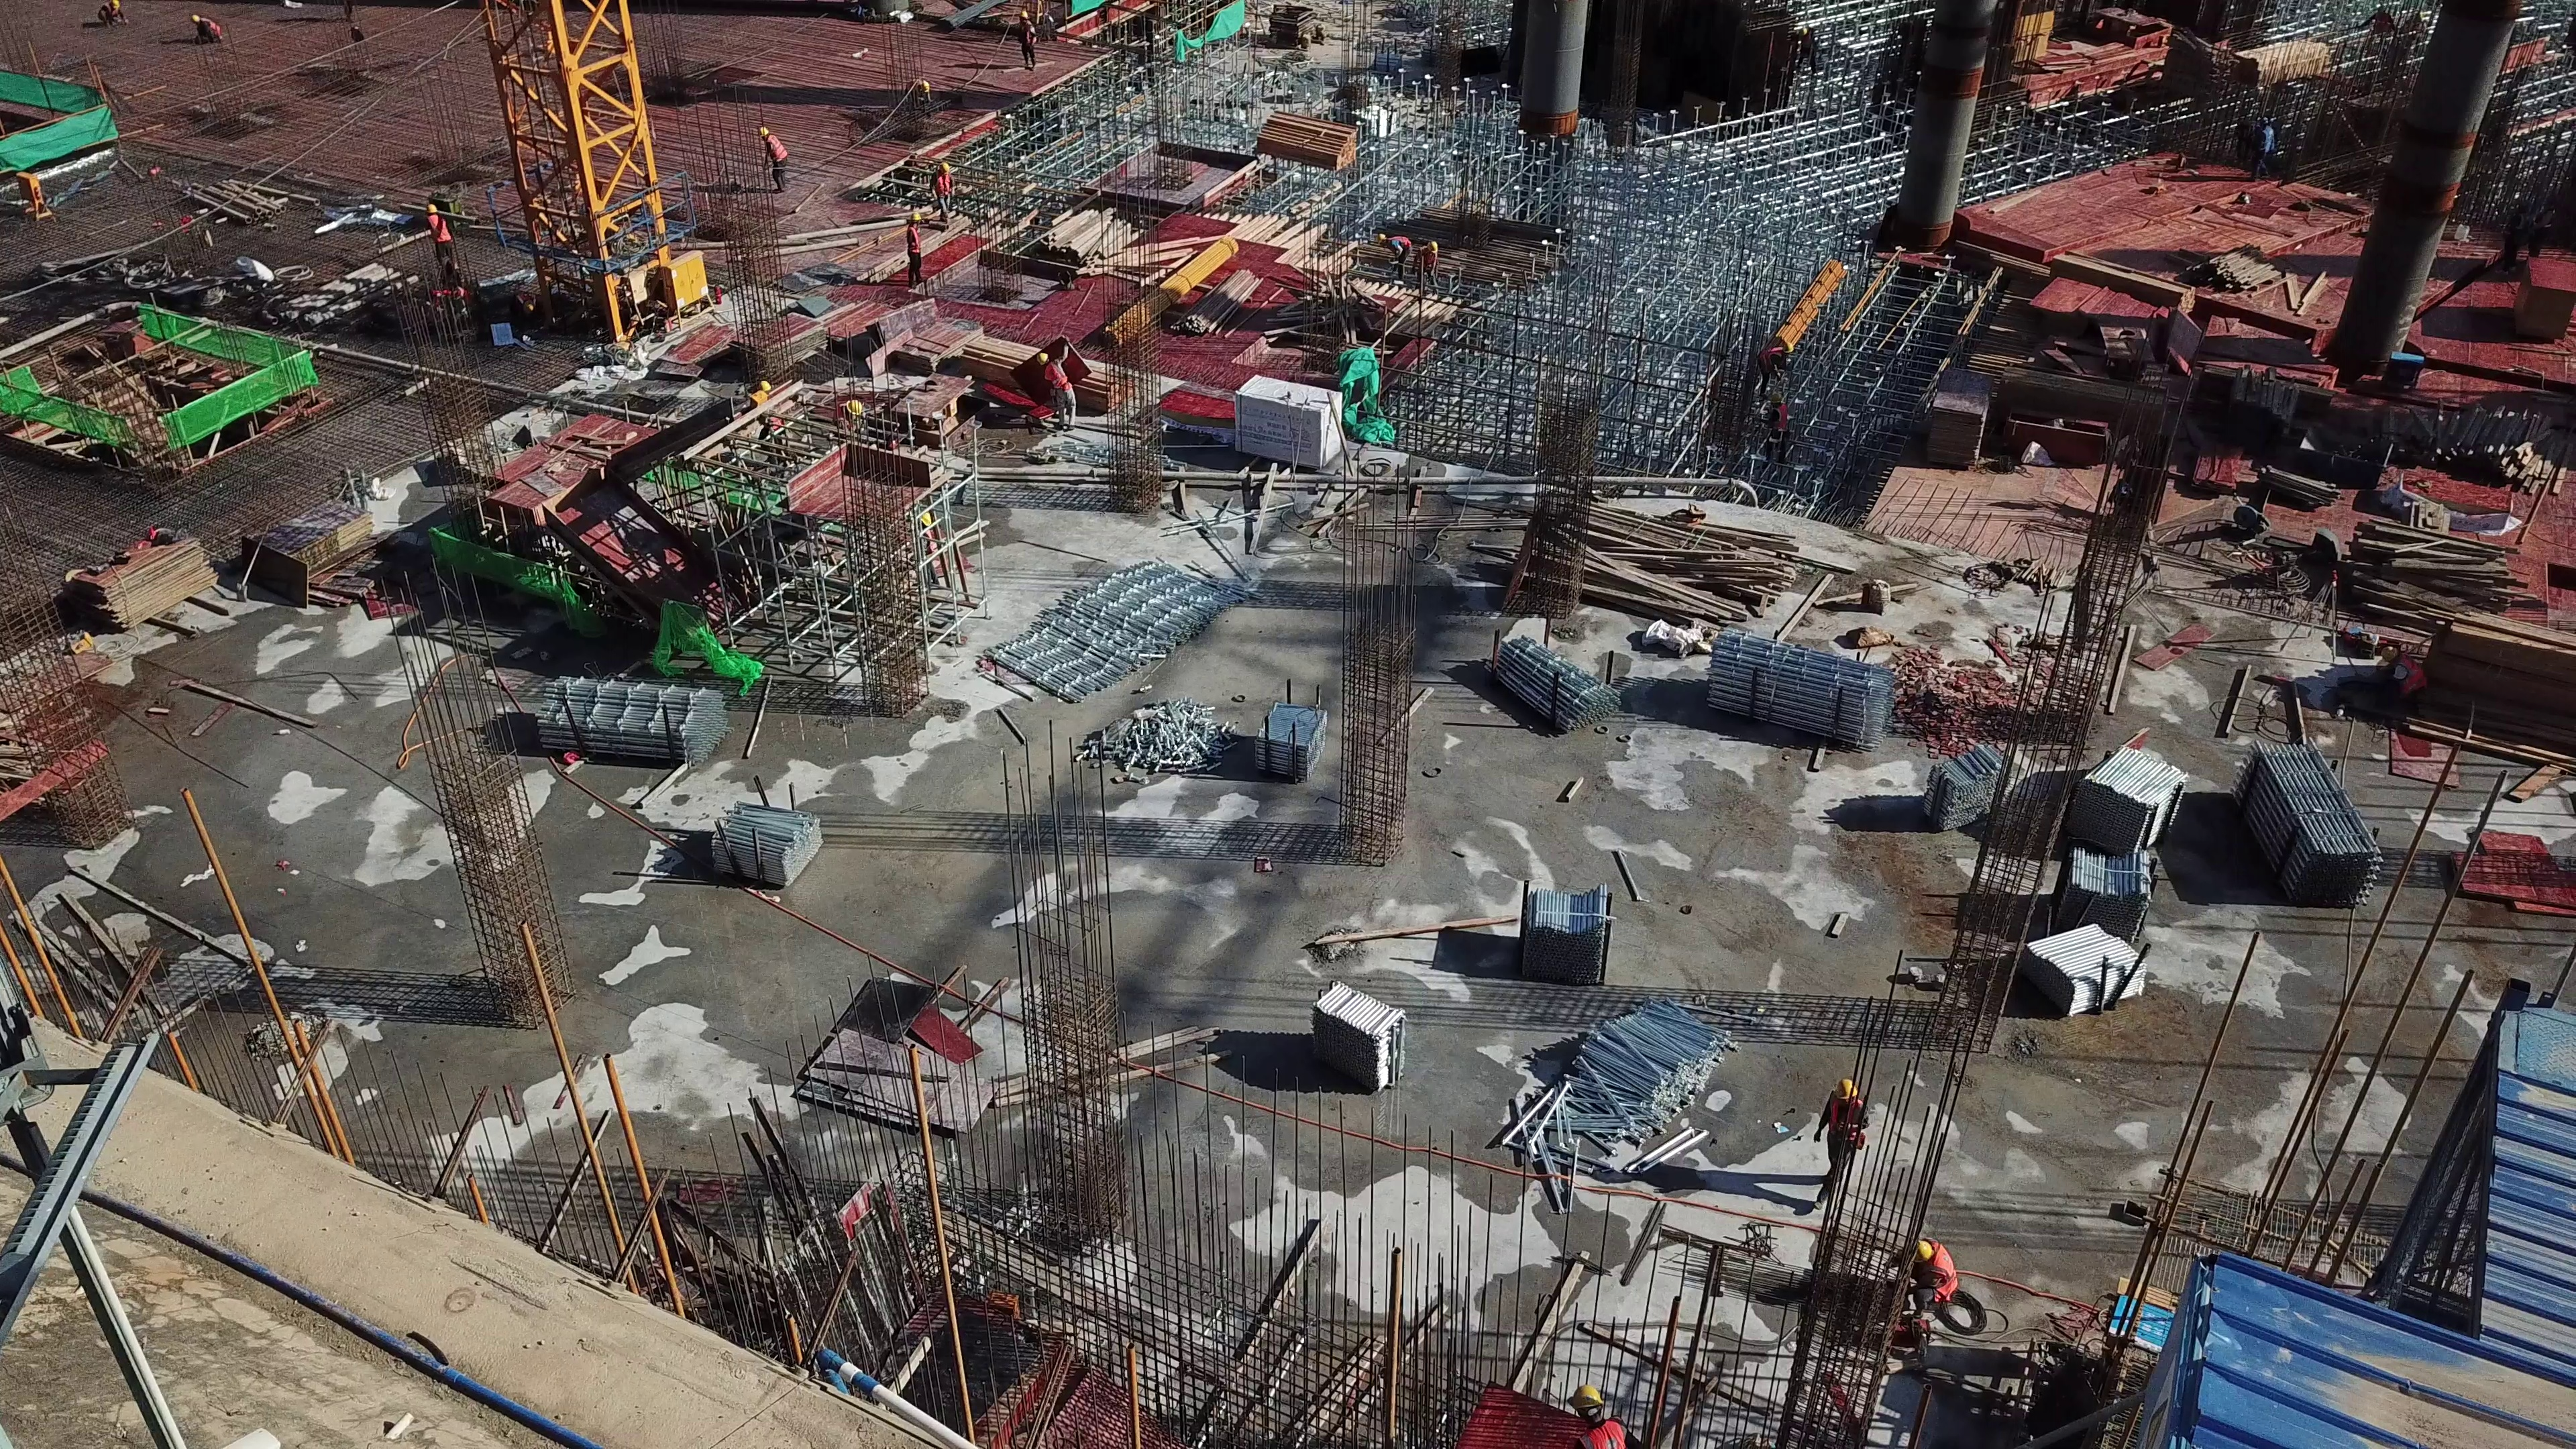board: (54, 536, 207, 634), (240, 507, 369, 598), (1931, 366, 1983, 474)
ebox: (655, 241, 715, 324)
person: (1814, 1069, 1878, 1208), (2374, 634, 2428, 735), (420, 197, 470, 301), (1911, 1223, 1960, 1320), (1566, 1377, 1628, 1449), (1035, 342, 1079, 440), (1762, 384, 1811, 461), (758, 121, 799, 197), (1747, 337, 1801, 391), (929, 152, 963, 236), (901, 208, 930, 301), (1379, 225, 1411, 301)
scaffold: (983, 567, 1196, 692), (2246, 736, 2389, 914), (1532, 1019, 1701, 1165), (1689, 631, 1890, 753), (531, 657, 733, 774), (1305, 974, 1411, 1104), (1493, 631, 1616, 733), (2023, 928, 2159, 1010), (2072, 739, 2170, 851), (712, 803, 808, 897), (1503, 882, 1613, 961), (2061, 848, 2165, 923), (1259, 698, 1337, 784)
wood: (2345, 515, 2576, 733), (1511, 476, 1829, 631), (2377, 403, 2576, 494), (1012, 202, 1195, 292), (951, 333, 1132, 415), (2000, 368, 2155, 427), (2222, 246, 2324, 325), (2222, 33, 2343, 100), (1254, 107, 1365, 167), (2225, 363, 2295, 430)
